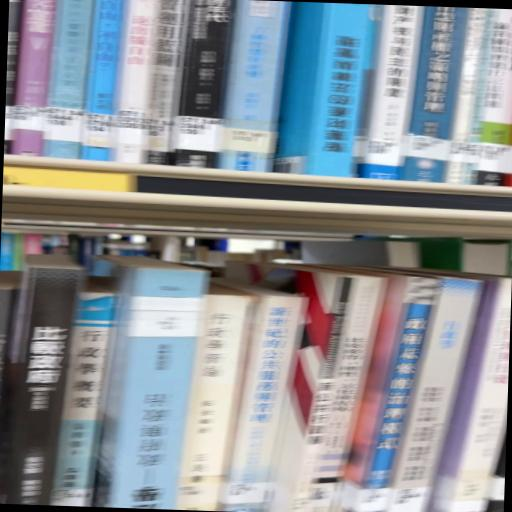reverse: (92, 256, 208, 509)
